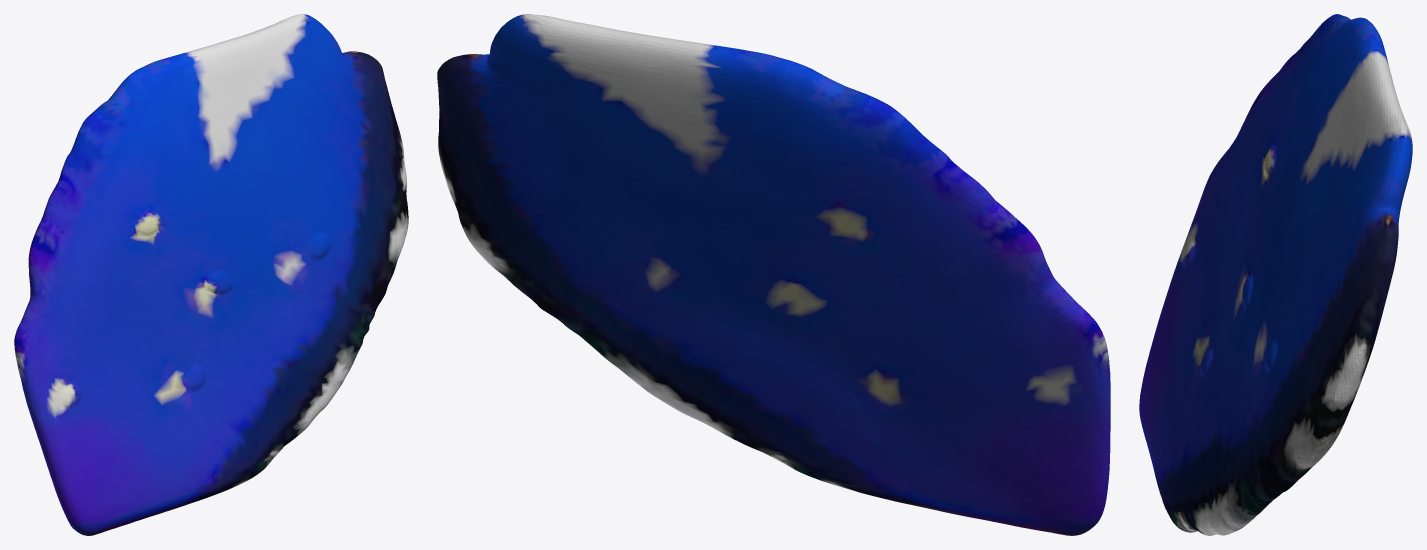
Rendered from sapphire_exceptional.glb.
3 views of the same model, side by side, from view 1: azimuth 30°, elevation 25°; view 2: azimuth 150°, elevation 25°; view 3: azimuth 270°, elevation 25° (orthographic). The views are drawn at different scales.
Visible parts, largest first — view 1: geometry_0; view 2: geometry_0; view 3: geometry_0.
Boxes of the visible parts, <box> form: geometry_0: <box>14,14,408,535</box>; geometry_0: <box>437,14,1110,535</box>; geometry_0: <box>1139,14,1412,535</box>.
Size of the model in its own units: 0.5938 by 0.491 by 0.2455.
